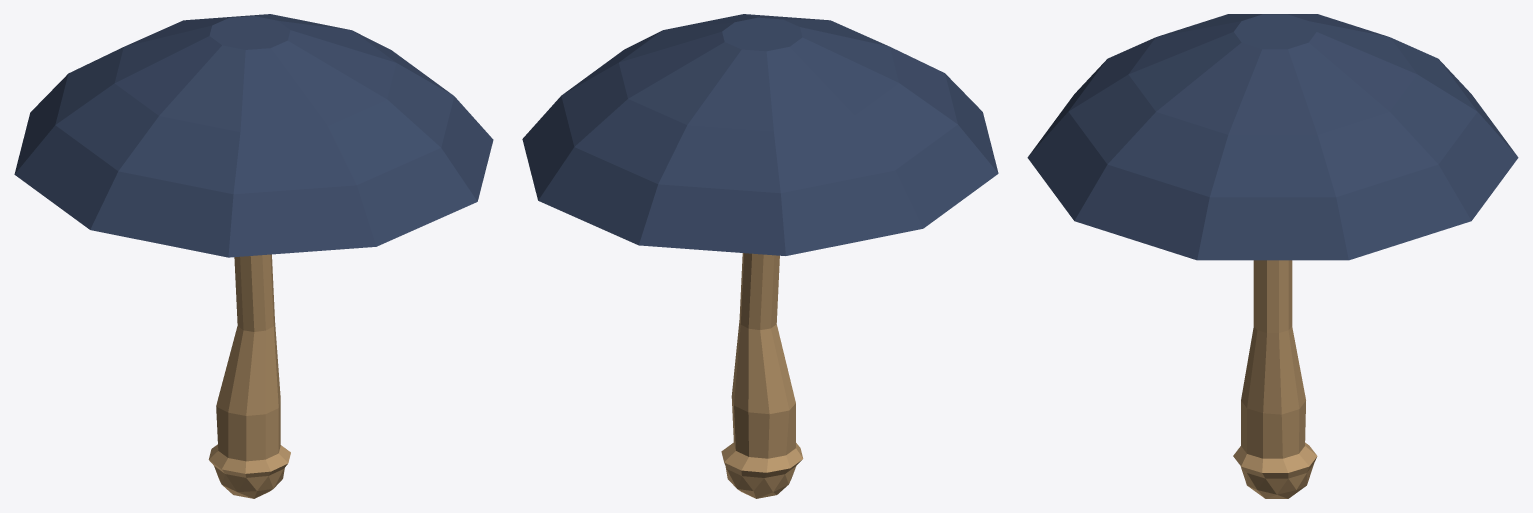
Rendered from mushroom4.fbx.
The picture shows the model from 3 angles, left to right: view 1: azimuth 30°, elevation 25°; view 2: azimuth 150°, elevation 25°; view 3: azimuth 270°, elevation 25°; orthographic projection.
Parts seen in each view (by area): view 1: Mushroom_4; view 2: Mushroom_4; view 3: Mushroom_4.
Part boxes in pixels (x1,y1,x2,y2): Mushroom_4: (14, 14, 493, 498); Mushroom_4: (522, 14, 998, 498); Mushroom_4: (1027, 14, 1518, 498).
Size of the model in its own units: 46.65 by 51.33 by 49.06.
